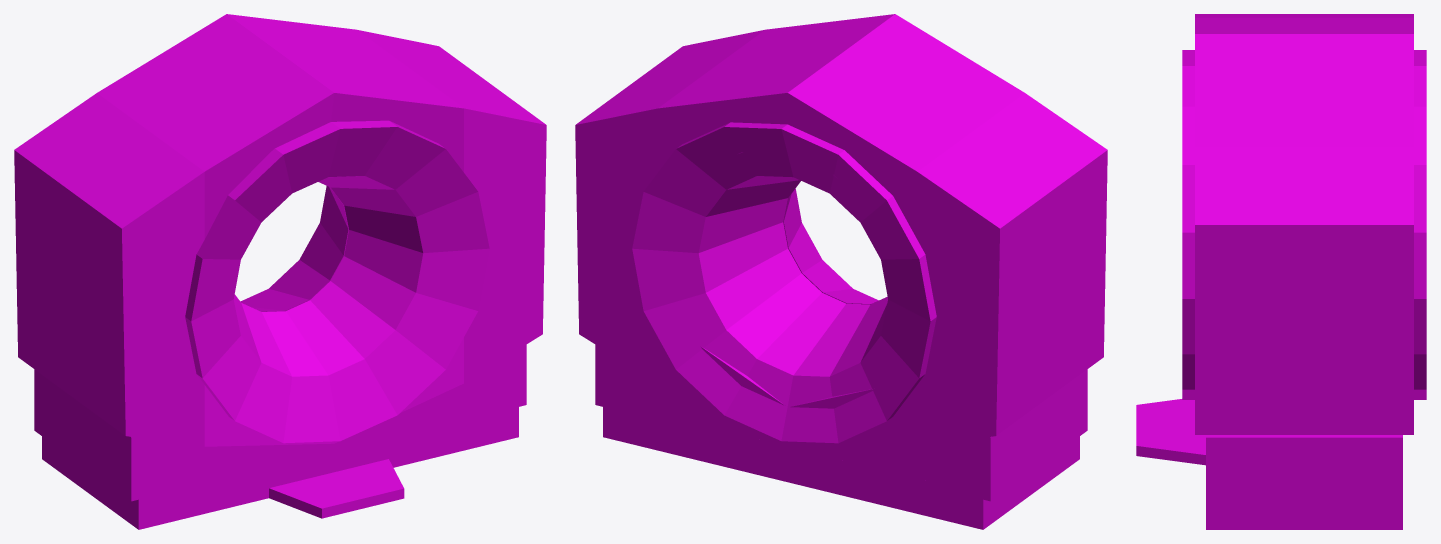
The model's file is SM_CTScannerBodyCollider.fbx.
3 renders of one model, left to right at view 1: azimuth 30°, elevation 25°; view 2: azimuth 150°, elevation 25°; view 3: azimuth 270°, elevation 25°, orthographic.
Visible parts, largest first — view 1: CTScannerBodyCollision; view 2: CTScannerBodyCollision; view 3: CTScannerBodyCollision.
Part boxes in pixels (x1,y1,x2,y2): CTScannerBodyCollision: (14, 14, 546, 529); CTScannerBodyCollision: (575, 14, 1107, 529); CTScannerBodyCollision: (1136, 14, 1426, 529).
Bounding box in the file's own units: 264 × 235 × 154.
